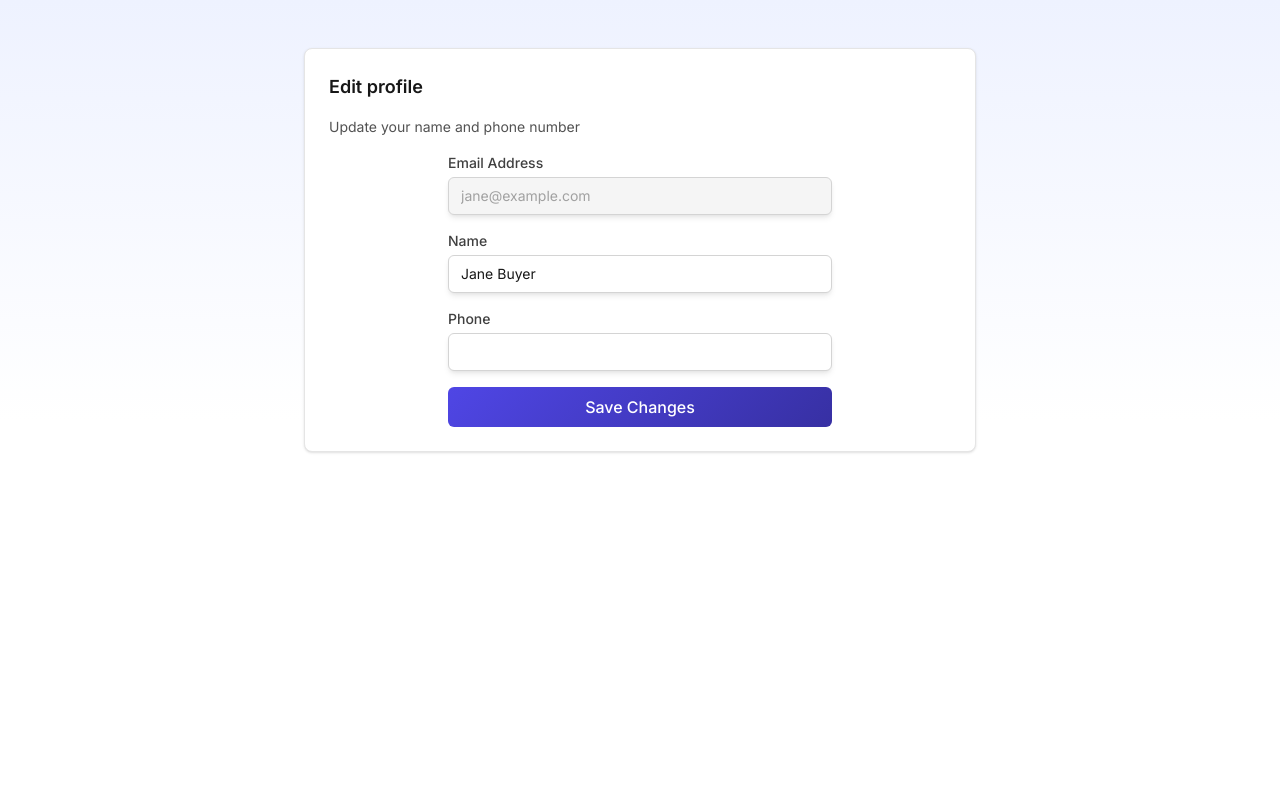
Profile editing › shows a validation error and no confirmation when the update is rejected
Clear the field showing "Jane Buyer" at (640, 274), box [448,255,832,293]
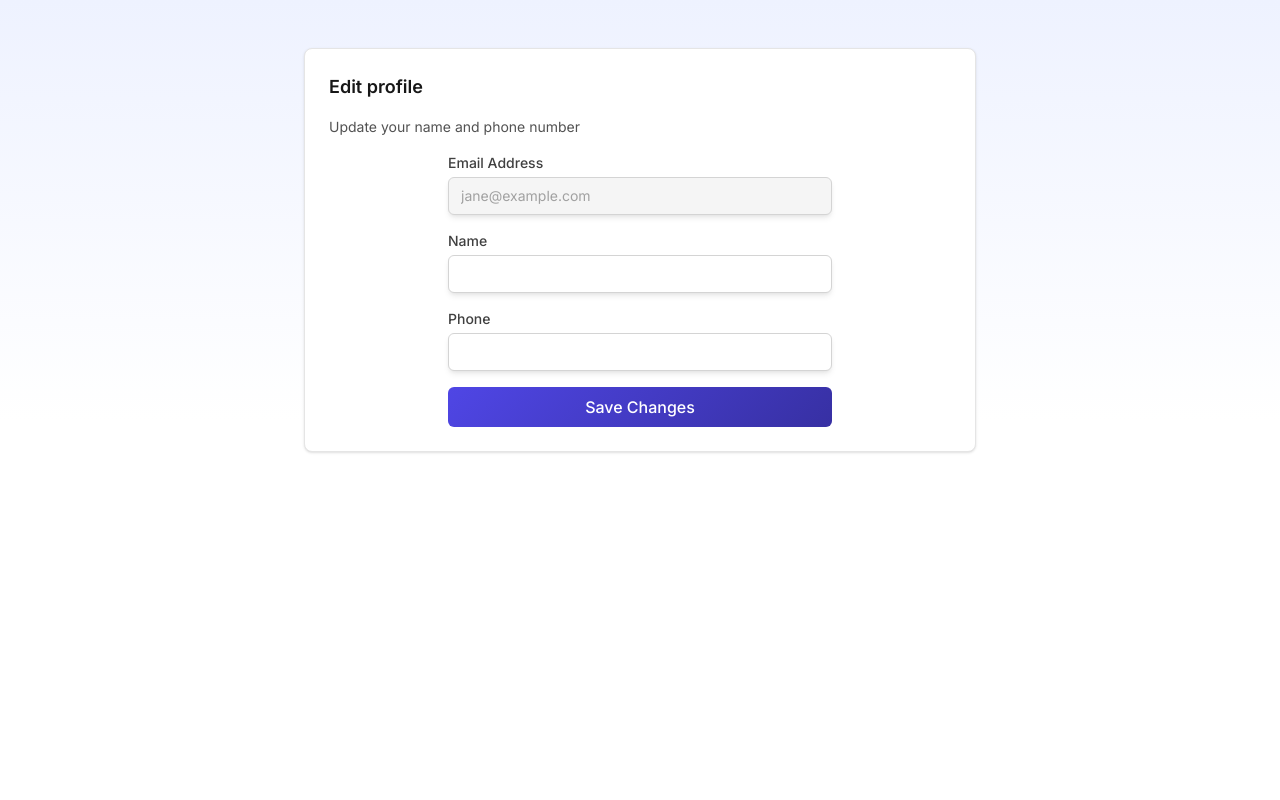
Click the button "Save Changes".
click(640, 407)  # box [448,387,832,427]
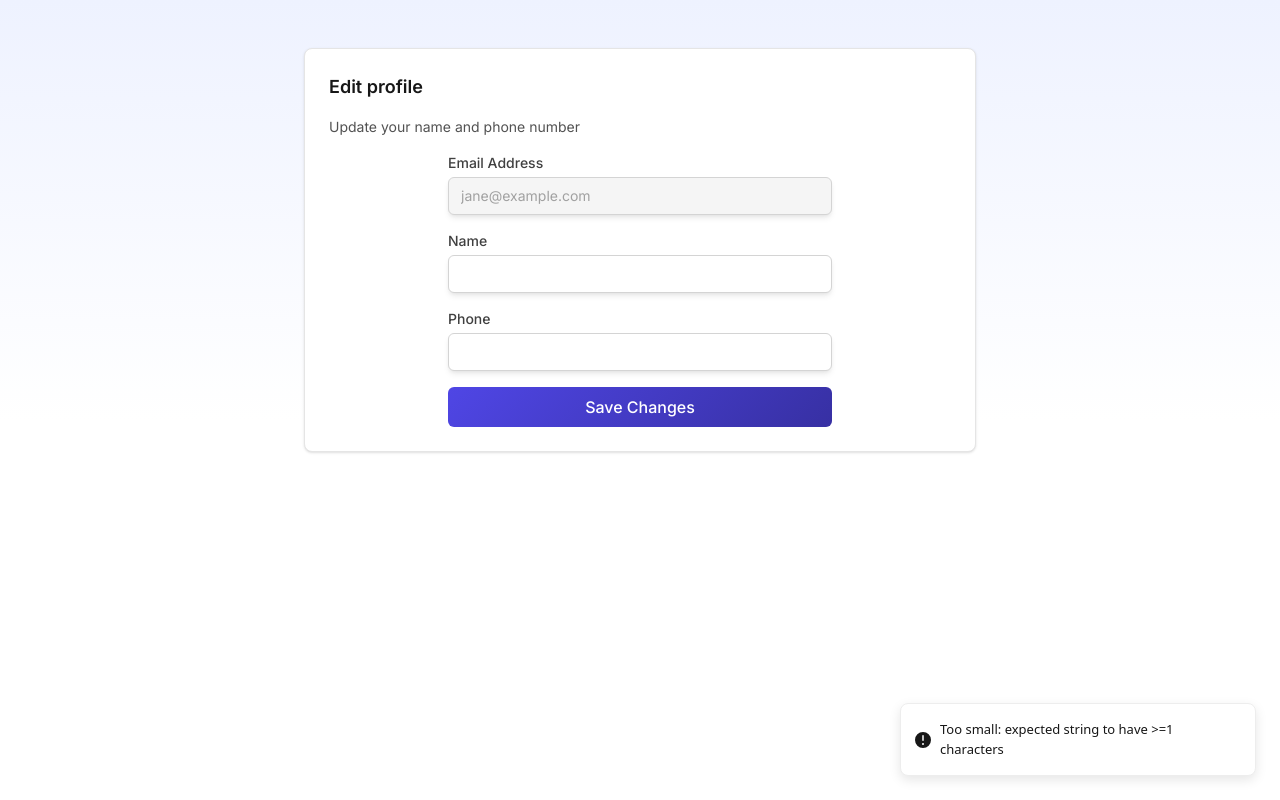
Check: the text "Too small: expected string to have >=1 characters" is shown, box [940,720,1174,758]
